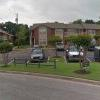Car: (26, 42, 52, 72)
